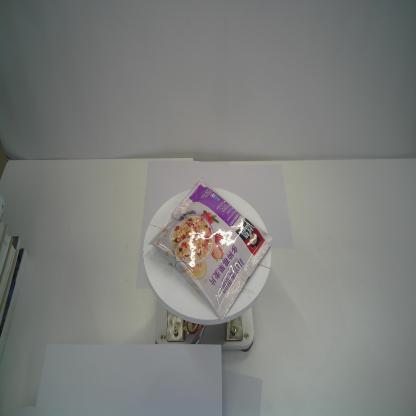Instant Drink: (148, 178, 273, 320)
